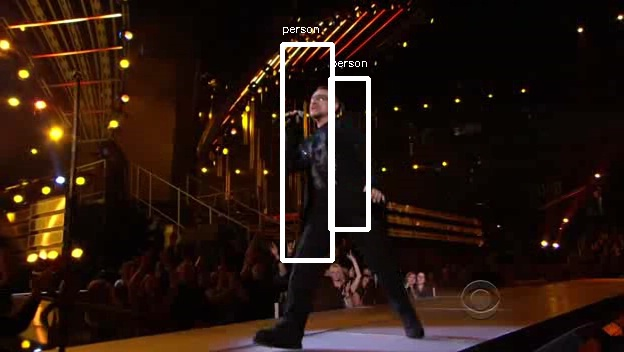person: (289, 86, 378, 259), (286, 86, 375, 259), (292, 86, 381, 259), (289, 83, 378, 256), (289, 89, 378, 262)
target_negative: (50, 82, 566, 161), (186, 291, 408, 328), (434, 249, 616, 263), (107, 7, 110, 303), (402, 68, 405, 321), (571, 74, 590, 85)
